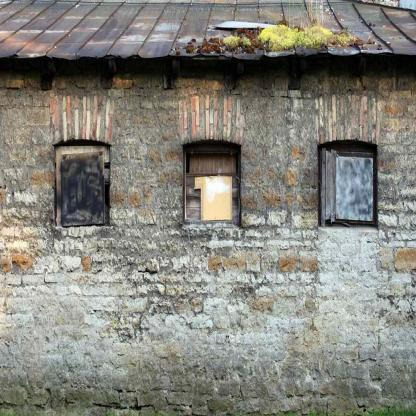Building Outline: (0, 0, 416, 415)
Facade: (0, 59, 416, 416)
Ground Floor: (0, 59, 416, 416)
Roof: (0, 1, 416, 60)
Window: (317, 139, 378, 231), (182, 139, 241, 229), (54, 139, 110, 227)
